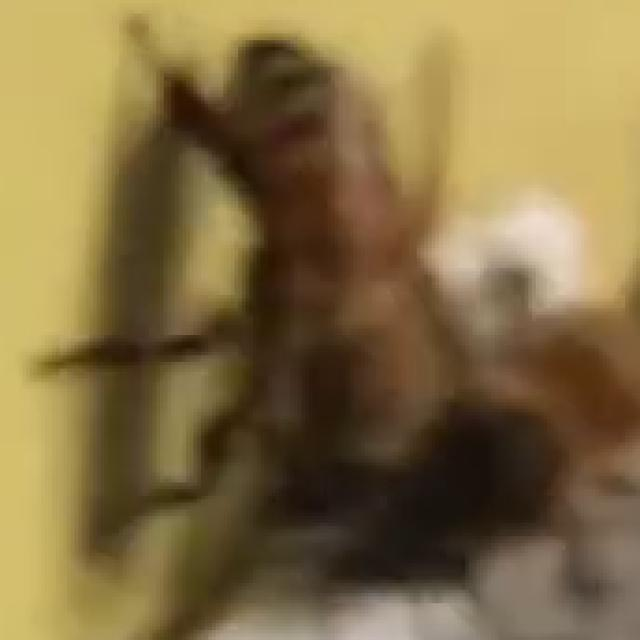honeybee: (115, 6, 594, 632)
